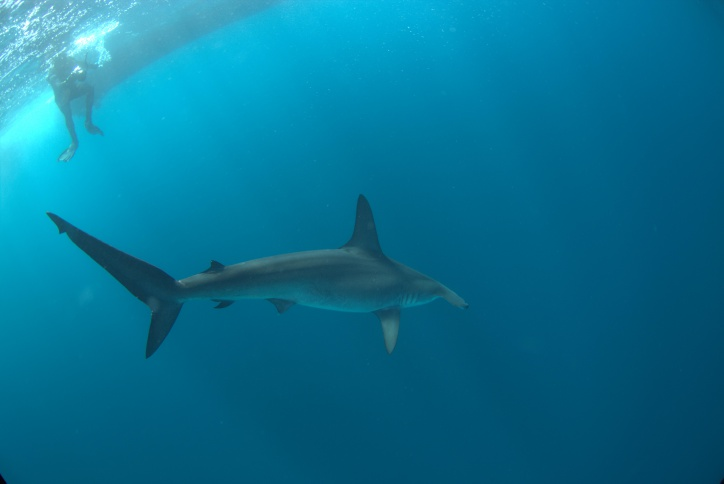Hammer: (36, 184, 474, 379)
